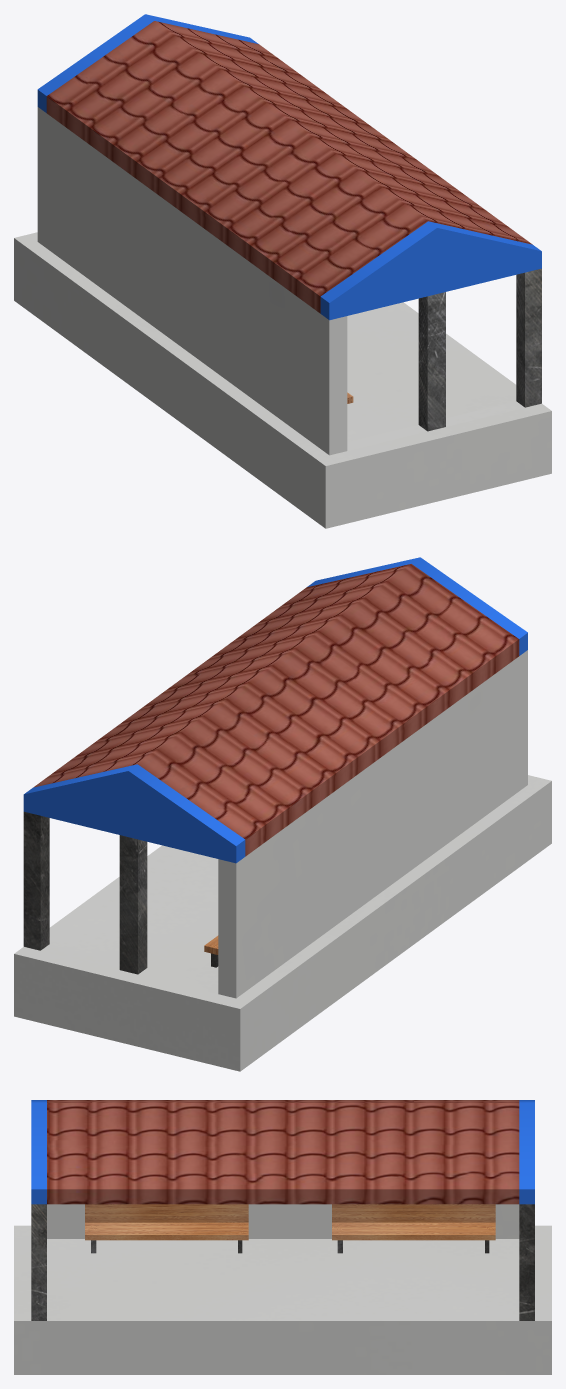
The model's file is axh_Station.fbx.
3 views of the same model, one above another, from view 1: azimuth 30°, elevation 25°; view 2: azimuth 150°, elevation 25°; view 3: azimuth 270°, elevation 25° (orthographic). The views are drawn at different scales.
Visible parts, largest first — view 1: station; view 2: station; view 3: station.
Part boxes in pixels (bbox=[...]): station: bbox=[14, 14, 551, 528]; station: bbox=[14, 557, 551, 1071]; station: bbox=[14, 1100, 551, 1374].
Bounding box in the file's own units: 8.27 × 9.23 × 19.75.
